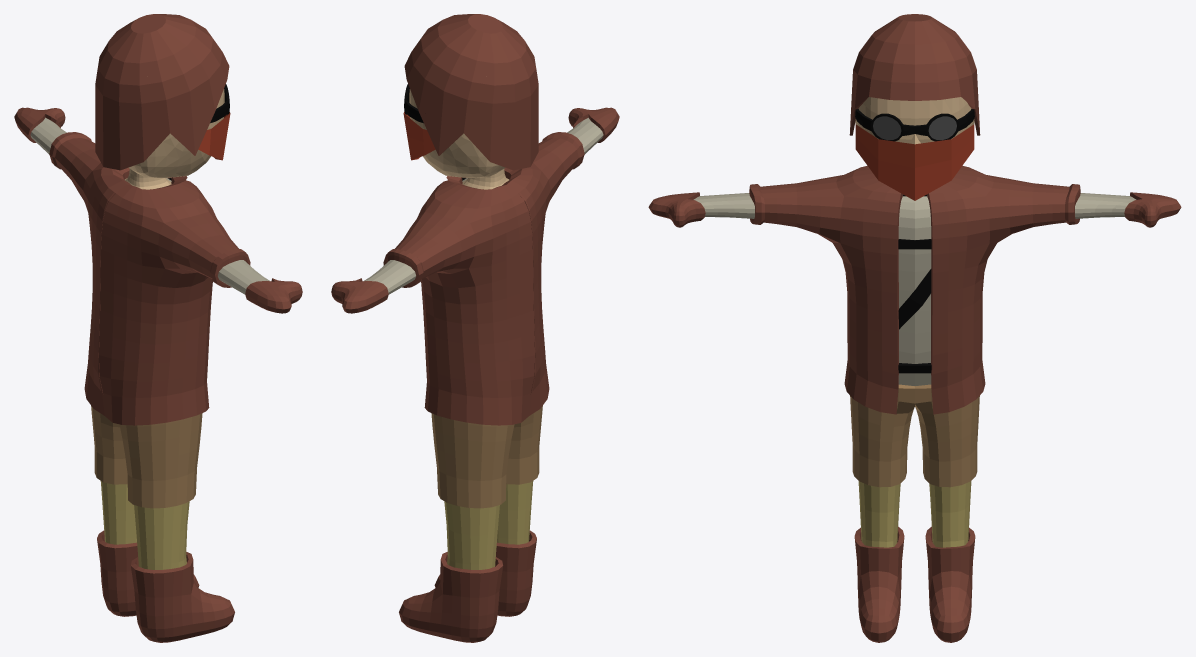
File: character.fbx
The picture shows the model from 3 angles, left to right: view 1: azimuth 30°, elevation 25°; view 2: azimuth 150°, elevation 25°; view 3: azimuth 270°, elevation 25°; orthographic projection.
Parts seen in each view (by area): view 1: Cube.003, Circle, Cube, Cube.004, Cube.006, Plane.001; view 2: Cube.003, Circle, Cube, Cube.004, Cube.006, Plane.001; view 3: Cube.003, Cube, Cube.004, Circle, Plane.001, Cube.006, Circle.001, Plane.
Part boxes in pixels (left/top/right/bottom): Cube.003: left=49, top=132, right=250, bottom=642; Circle: left=95, top=14, right=229, bottom=170; Cube: left=30, top=89, right=270, bottom=569; Cube.004: left=91, top=406, right=202, bottom=508; Cube.006: left=14, top=107, right=302, bottom=313; Plane.001: left=198, top=112, right=230, bottom=160; Cube.003: left=383, top=132, right=584, bottom=642; Circle: left=404, top=14, right=538, bottom=170; Cube: left=363, top=89, right=603, bottom=569; Cube.004: left=431, top=406, right=542, bottom=508; Cube.006: left=331, top=107, right=619, bottom=313; Plane.001: left=403, top=112, right=435, bottom=160; Cube.003: left=749, top=166, right=1080, bottom=642; Cube: left=693, top=97, right=1136, bottom=547; Cube.004: left=850, top=384, right=979, bottom=487; Circle: left=849, top=14, right=980, bottom=135; Plane.001: left=855, top=124, right=974, bottom=200; Cube.006: left=648, top=192, right=1181, bottom=227; Circle.001: left=855, top=108, right=974, bottom=141; Plane: left=898, top=269, right=931, bottom=329.
Bounding box in the file's own units: 185 × 873 × 699.
